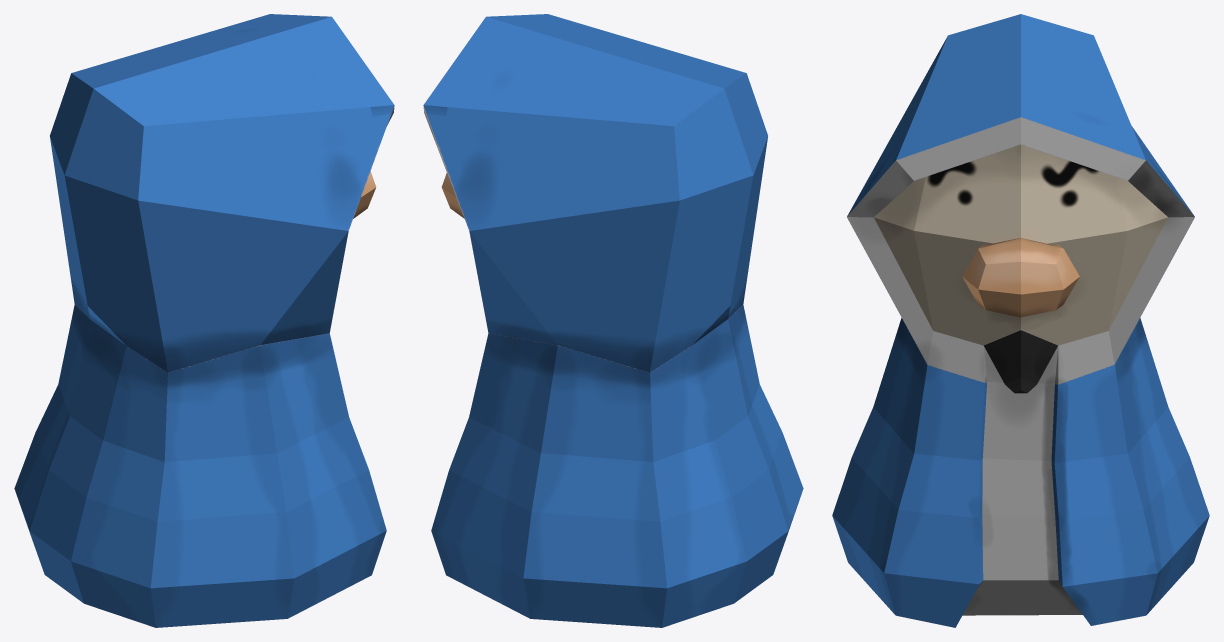
Rendered from mago.fbx.
3 views of the same model, side by side, from view 1: azimuth 30°, elevation 25°; view 2: azimuth 150°, elevation 25°; view 3: azimuth 270°, elevation 25° (orthographic).
Visible parts, largest first — view 1: Cubo; view 2: Cubo; view 3: Cubo.
Part boxes in pixels (x1,y1,x2,y2): Cubo: (14, 14, 394, 627); Cubo: (423, 14, 803, 627); Cubo: (832, 14, 1209, 627).
Bounding box in the file's own units: 277 × 431 × 287.
1 material, 1 textured.
